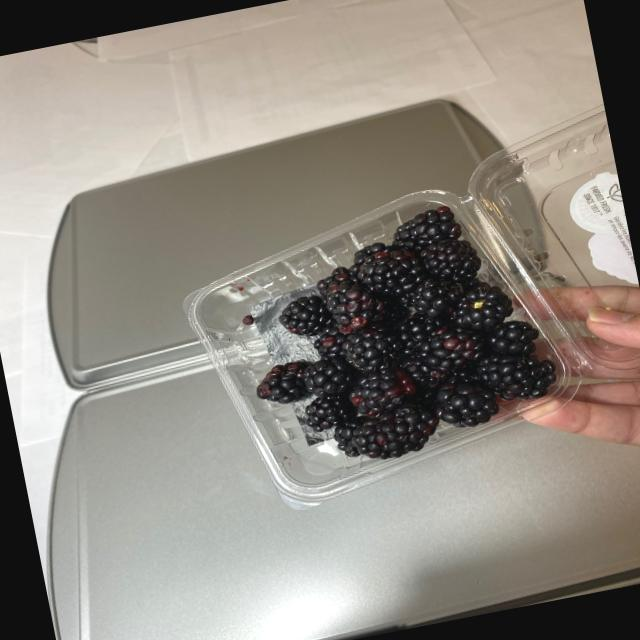blackberries: (224, 183, 520, 488)
